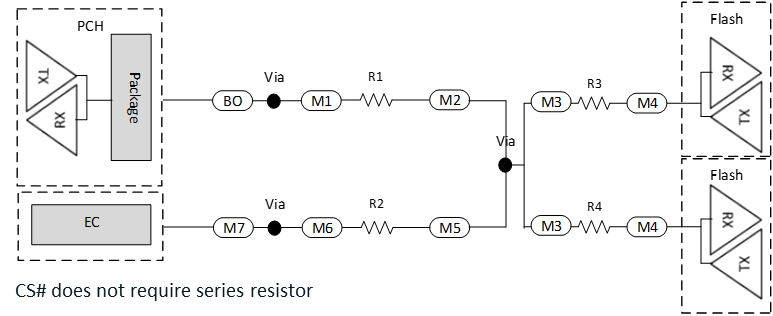circle: (263, 218, 286, 241), (262, 90, 284, 110), (496, 154, 515, 173)
dotted_rectangle: (12, 3, 164, 187), (678, 156, 773, 316), (677, 1, 773, 158), (10, 188, 165, 264)
oval: (426, 214, 476, 242), (427, 85, 472, 114), (623, 88, 668, 117), (209, 87, 255, 115), (300, 88, 346, 116), (623, 211, 670, 238), (210, 212, 256, 239), (528, 211, 574, 238), (530, 87, 575, 114), (300, 216, 345, 241)
rectangle: (107, 28, 155, 165), (27, 201, 154, 248)
resistor: (359, 215, 401, 239), (357, 91, 397, 113), (577, 92, 616, 114), (574, 215, 612, 237)
triangle: (707, 181, 767, 258), (705, 34, 765, 110), (710, 229, 767, 304), (26, 83, 82, 156), (711, 81, 766, 153), (23, 38, 74, 114)
